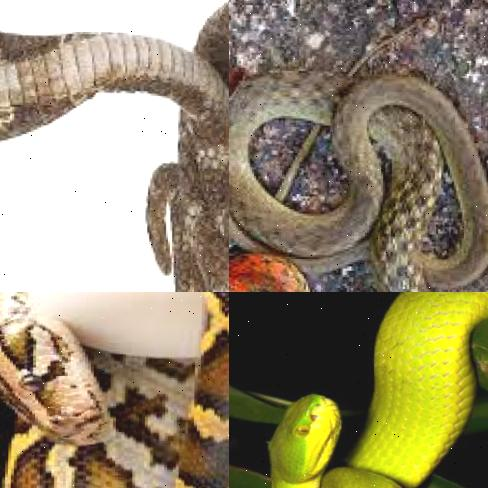snake: (0, 0, 229, 292), (229, 49, 488, 292), (229, 292, 488, 488), (0, 292, 229, 488)
